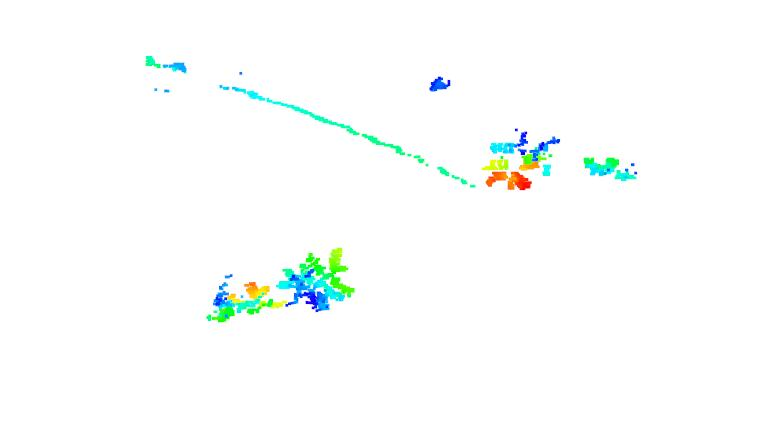chickpea: (480, 128, 567, 194), (280, 247, 359, 314), (205, 276, 285, 325), (581, 150, 643, 185)
